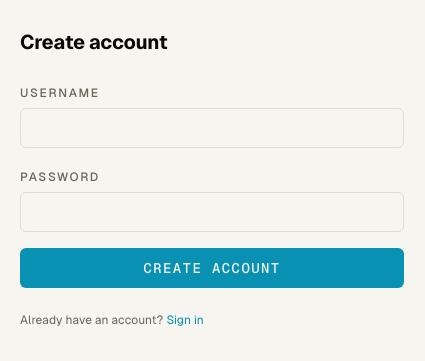
Test: RegisterPage › still reports a taken username
Type "newcomer" into the field labelled "Username" at point(212, 128), box [20,108,404,148]
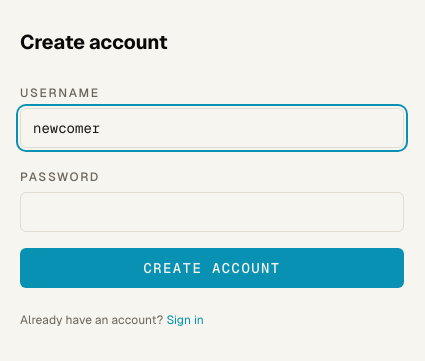
Type "password123" into the password field labelled "Password" at point(212, 212), box [20,192,404,232]
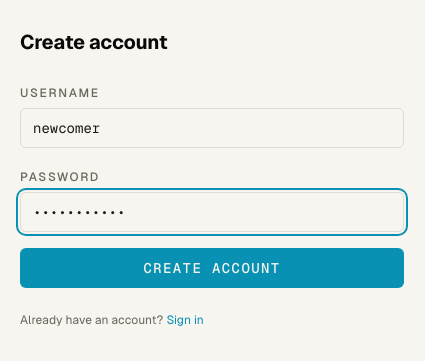
Click the button "Create account" at point(212, 268), box [20,248,404,288]
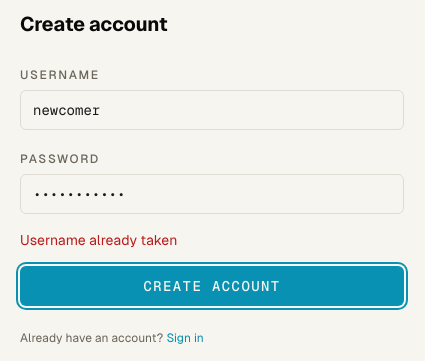
Expected: the text "Username already taken" is shown, [20,232,177,248]
